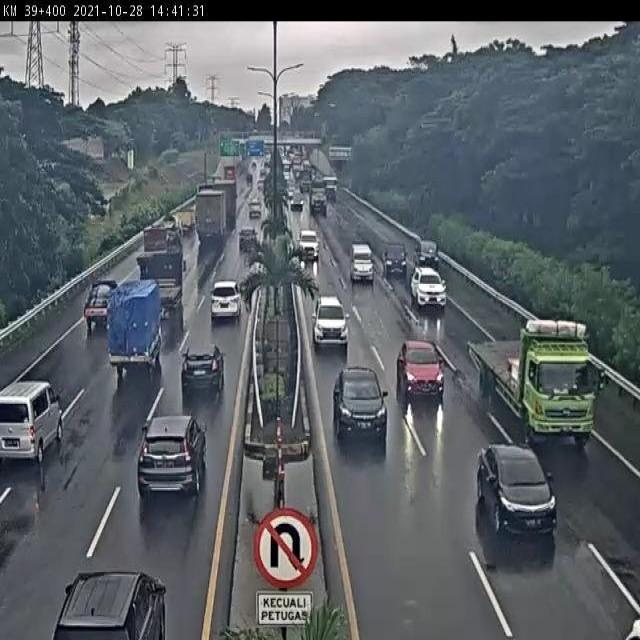car: (476, 445, 558, 543), (137, 412, 207, 496), (0, 380, 63, 463), (332, 366, 388, 442), (396, 341, 445, 400), (181, 344, 224, 396), (311, 296, 349, 353), (83, 277, 120, 331), (410, 265, 447, 312), (210, 280, 242, 320), (349, 242, 375, 282), (382, 245, 408, 278), (414, 240, 439, 268), (237, 227, 257, 253)
truck-l-: (469, 318, 595, 446)
truck-m-: (107, 279, 163, 373), (134, 253, 181, 323), (137, 228, 168, 272), (157, 215, 183, 252)
